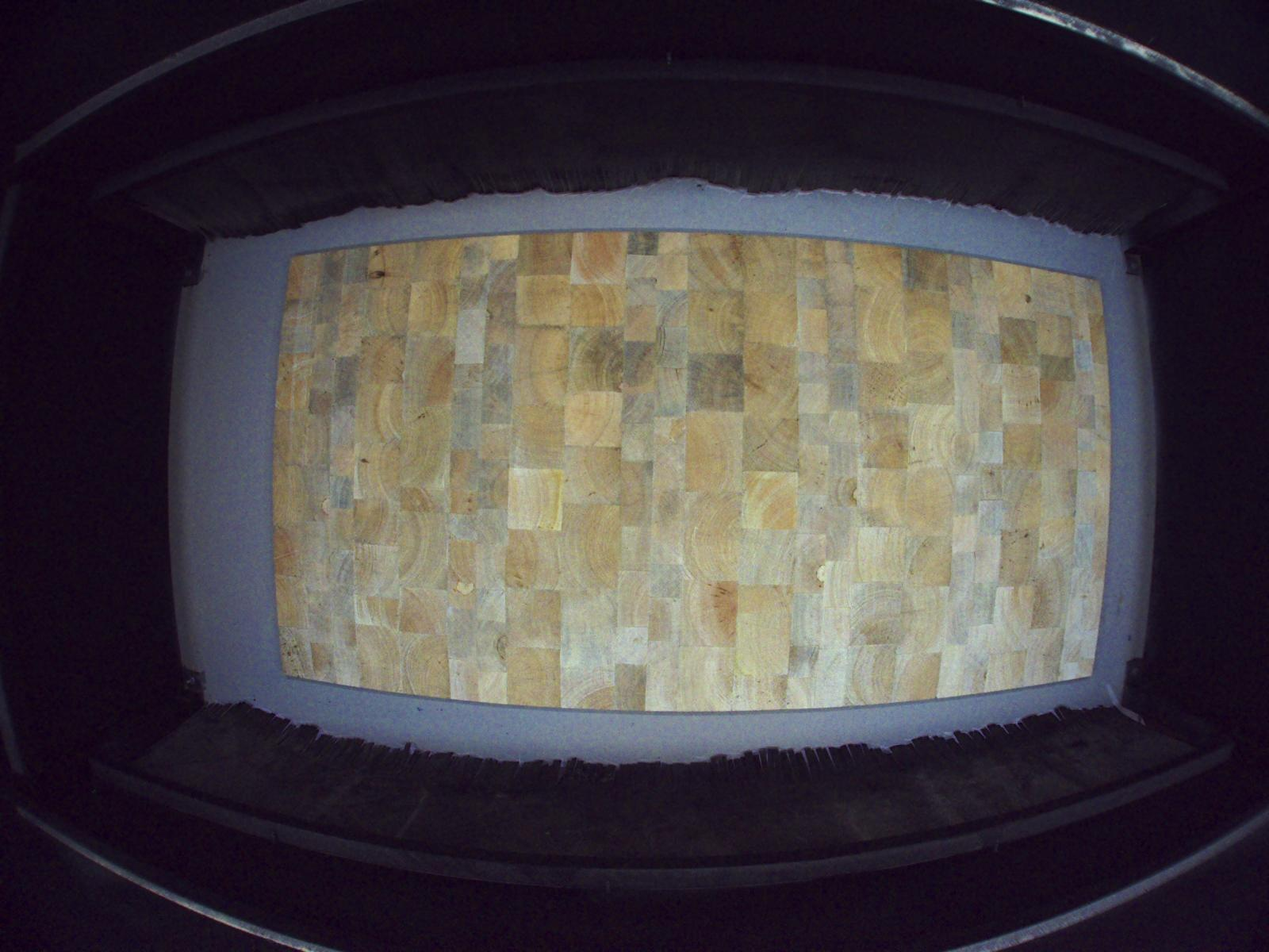sheck_ecuatoriano: (367, 246, 387, 291)
